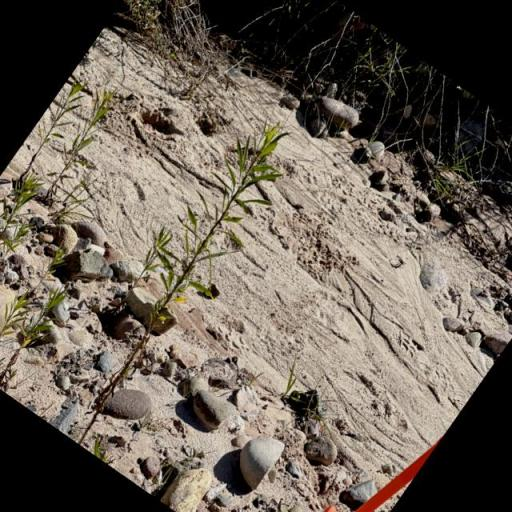mallet: (299, 401, 443, 512)
